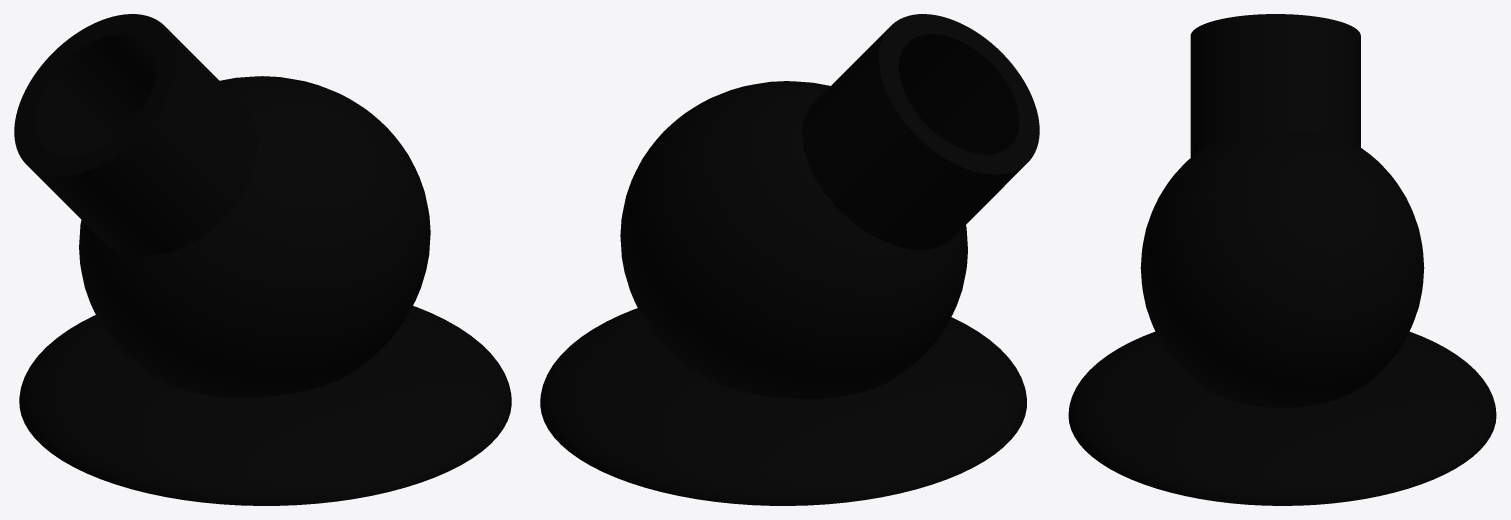
File: canon.fbx
The picture shows the model from 3 angles, left to right: view 1: azimuth 30°, elevation 25°; view 2: azimuth 150°, elevation 25°; view 3: azimuth 270°, elevation 25°; orthographic projection. The views are drawn at different scales.
Visible parts, largest first — view 1: root (×3); view 2: root (×3); view 3: root (×3).
Boxes of the visible parts, x1,y1,x2,y2 form: root (×3): (14,14,511,505); root (×3): (540,14,1039,505); root (×3): (1068,14,1496,505).
Size of the model in its own units: 0.2243 by 0.194 by 0.2117.
Materials: 3 (3 with a texture image).
